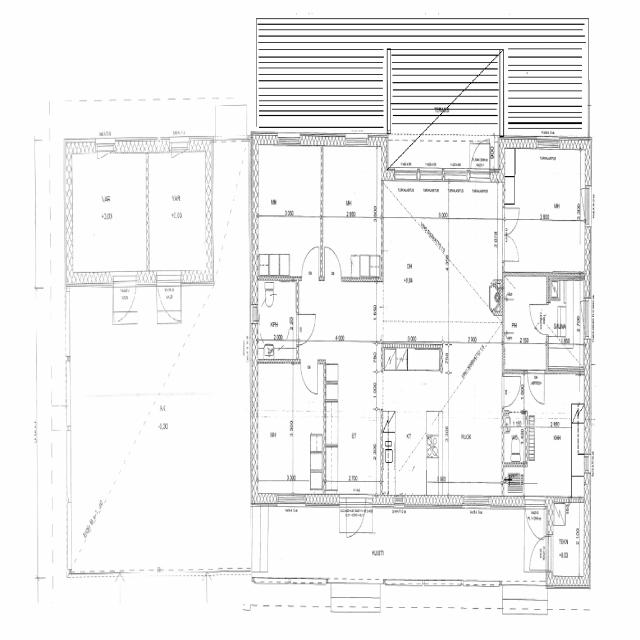door: (157, 272, 180, 328), (114, 272, 136, 327), (470, 132, 489, 180), (525, 495, 544, 542), (527, 536, 553, 570), (346, 495, 364, 541), (296, 314, 316, 345), (324, 246, 342, 280), (300, 358, 317, 394), (527, 370, 544, 405), (302, 246, 319, 280), (502, 376, 521, 406), (530, 305, 549, 334), (502, 208, 519, 234), (502, 235, 519, 261)
